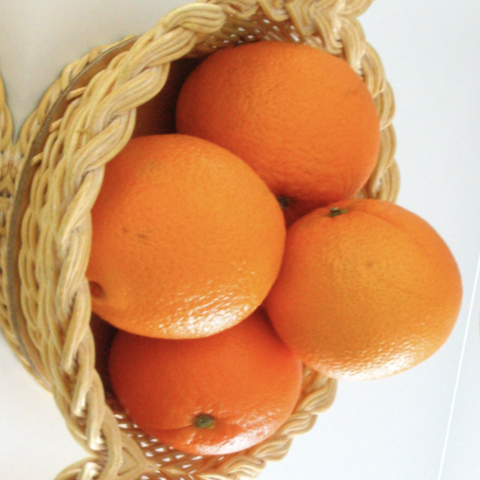orange: (39, 109, 324, 377), (165, 3, 405, 236), (268, 174, 480, 400), (120, 280, 325, 480)
